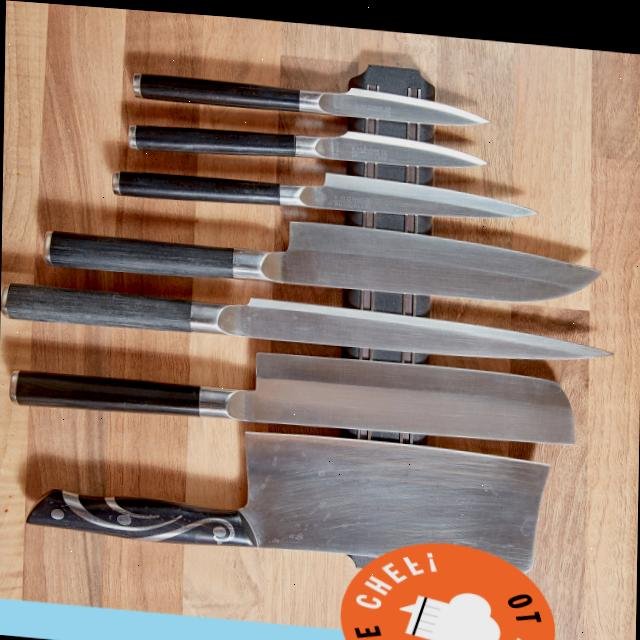knife: (22, 400, 556, 602), (8, 319, 572, 457), (33, 193, 606, 309), (0, 272, 615, 367), (103, 159, 533, 224), (117, 104, 492, 171), (124, 63, 492, 129)
